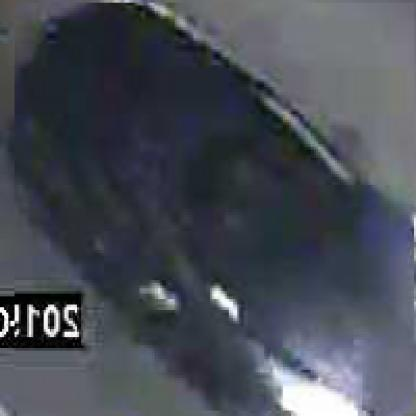car: (13, 4, 415, 414)
